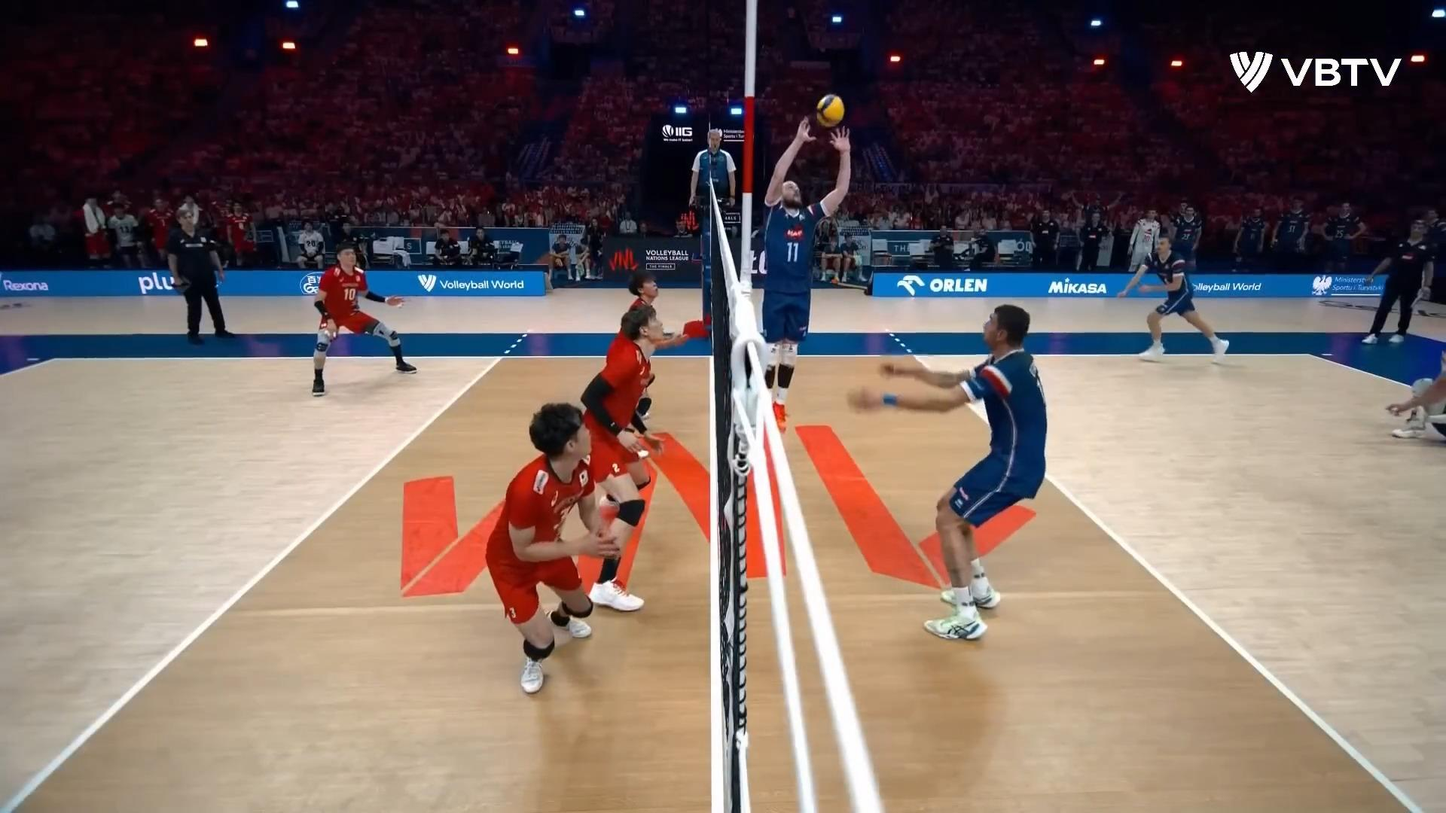ball: (817, 92, 846, 129)
